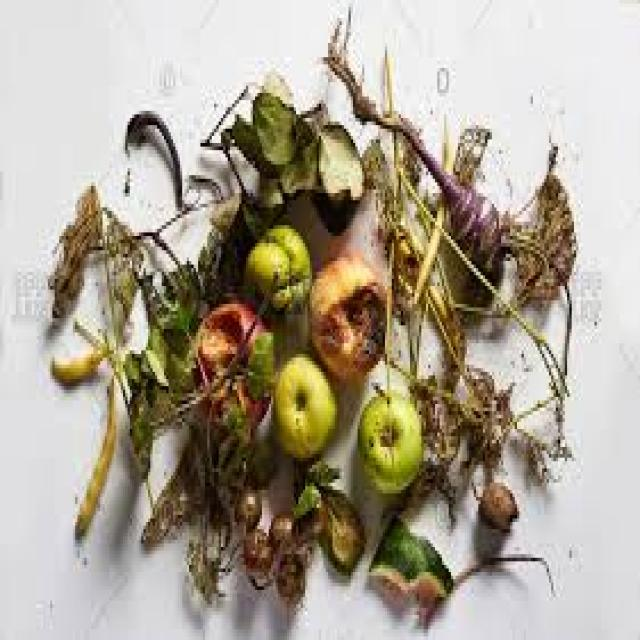food_waste: (52, 25, 572, 619)
